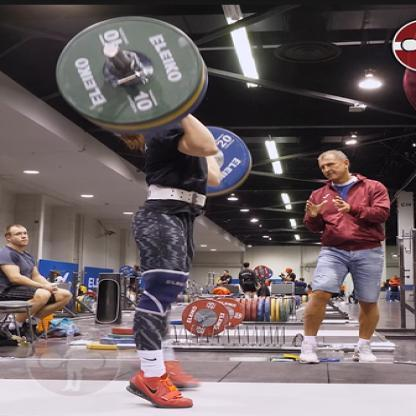barbell: (54, 15, 254, 197)
